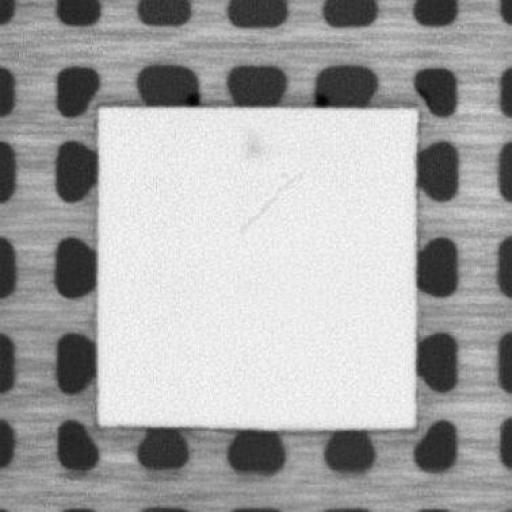DIE_CRACK: (237, 169, 308, 236)
